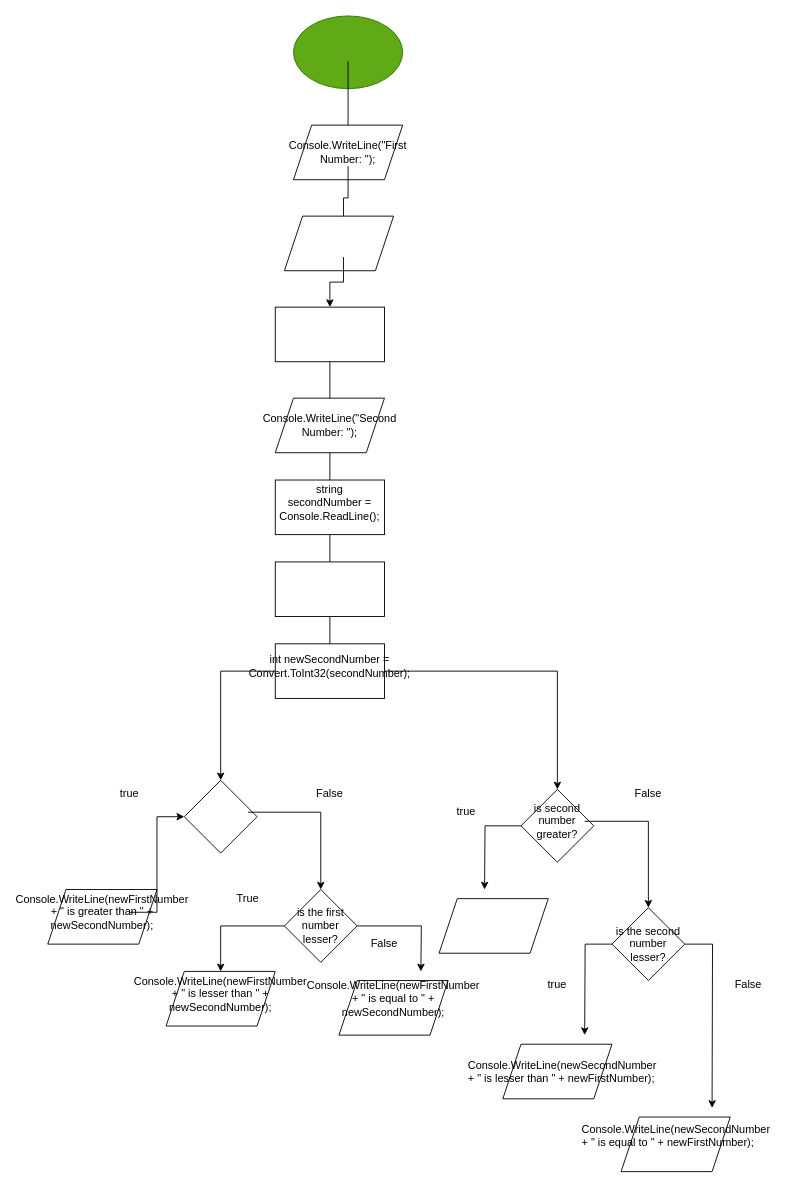
Some shapes in this 791 by 1188 pixel diagram are drawn without their labels. Each missing label, with the box of its shape:
Console.WriteLine(newSecondNumber + " is greater than " + newFirstNumber);: (438, 898, 548, 953)
int newFirstNumber = Convert.ToInt32(firstNumber);: (274, 561, 384, 617)
is first number greater?: (183, 779, 257, 853)
Start: (293, 15, 403, 89)
string firstNumber = Console.ReadLine();: (274, 306, 384, 362)
User Input: (283, 215, 394, 271)
